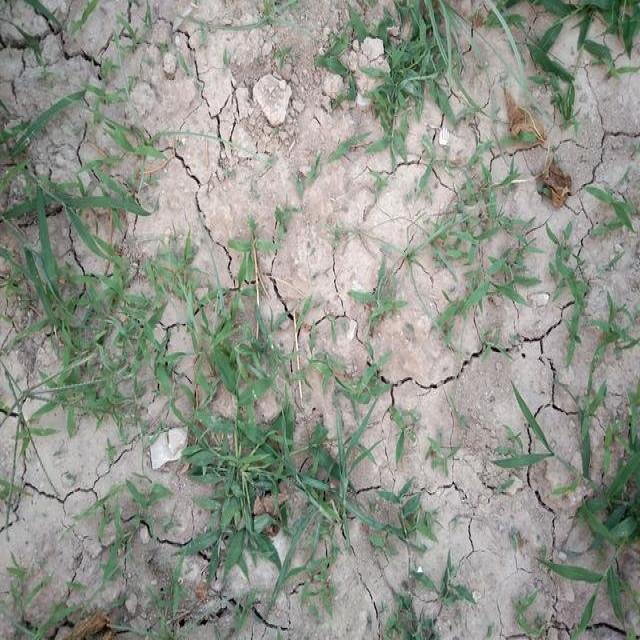weed: (0, 113, 177, 416), (502, 395, 640, 640), (193, 247, 283, 608), (410, 188, 539, 342), (290, 381, 375, 576), (374, 481, 476, 640), (549, 221, 640, 380), (377, 6, 460, 167), (536, 17, 626, 133), (74, 477, 166, 574), (352, 273, 413, 324), (594, 164, 634, 240)
